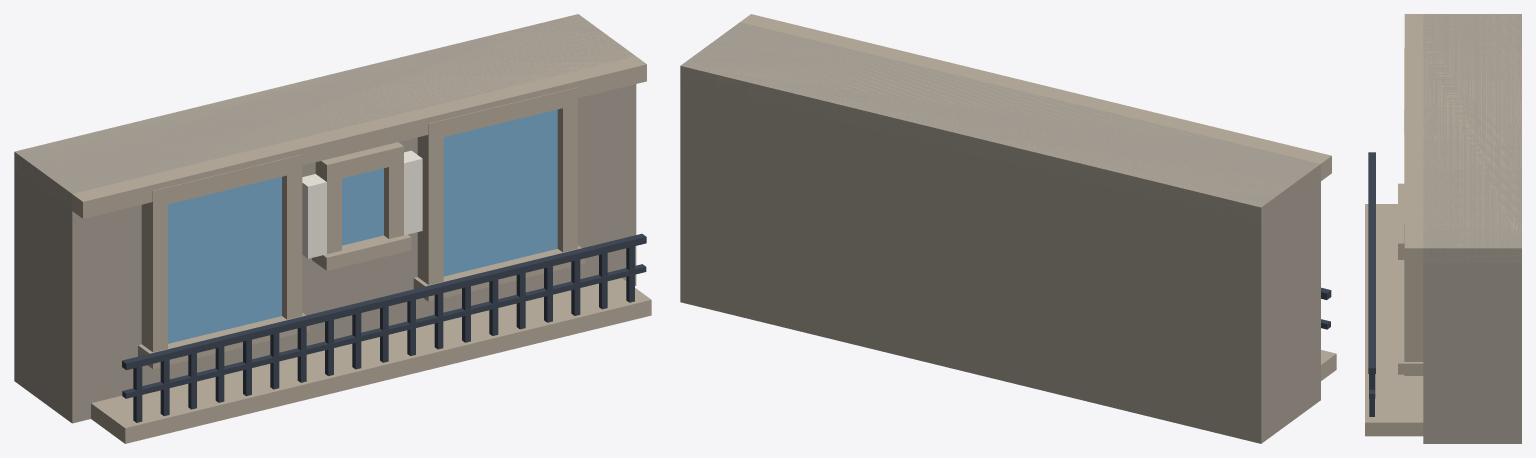
File: cittaTortoraPianoB.glb
The picture shows the model from 3 angles, left to right: view 1: azimuth 30°, elevation 25°; view 2: azimuth 150°, elevation 25°; view 3: azimuth 270°, elevation 25°; orthographic projection. The views are drawn at different scales.
Parts seen in each view (by area): view 1: cittaTortoraPianoB_cittaTortora, cittaTortoraPianoB_stone, cittaTortoraPianoB_glass, cittaTortoraPianoB_steelDark, cittaTortoraPianoB_white; view 2: cittaTortoraPianoB_cittaTortora, cittaTortoraPianoB_stone; view 3: cittaTortoraPianoB_cittaTortora, cittaTortoraPianoB_stone, cittaTortoraPianoB_steelDark.
Part boxes in pixels (left/top/right/bottom): cittaTortoraPianoB_cittaTortora: left=14, top=14, right=636, bottom=423; cittaTortoraPianoB_stone: left=14, top=14, right=651, bottom=443; cittaTortoraPianoB_glass: left=168, top=109, right=557, bottom=343; cittaTortoraPianoB_steelDark: left=122, top=233, right=646, bottom=422; cittaTortoraPianoB_white: left=302, top=150, right=422, bottom=258; cittaTortoraPianoB_cittaTortora: left=680, top=22, right=1320, bottom=443; cittaTortoraPianoB_stone: left=680, top=14, right=1336, bottom=380; cittaTortoraPianoB_cittaTortora: left=1423, top=14, right=1521, bottom=443; cittaTortoraPianoB_stone: left=1365, top=14, right=1521, bottom=436; cittaTortoraPianoB_steelDark: left=1368, top=152, right=1375, bottom=416.
Size of the model in its own units: 9 by 3.5 by 2.54.
